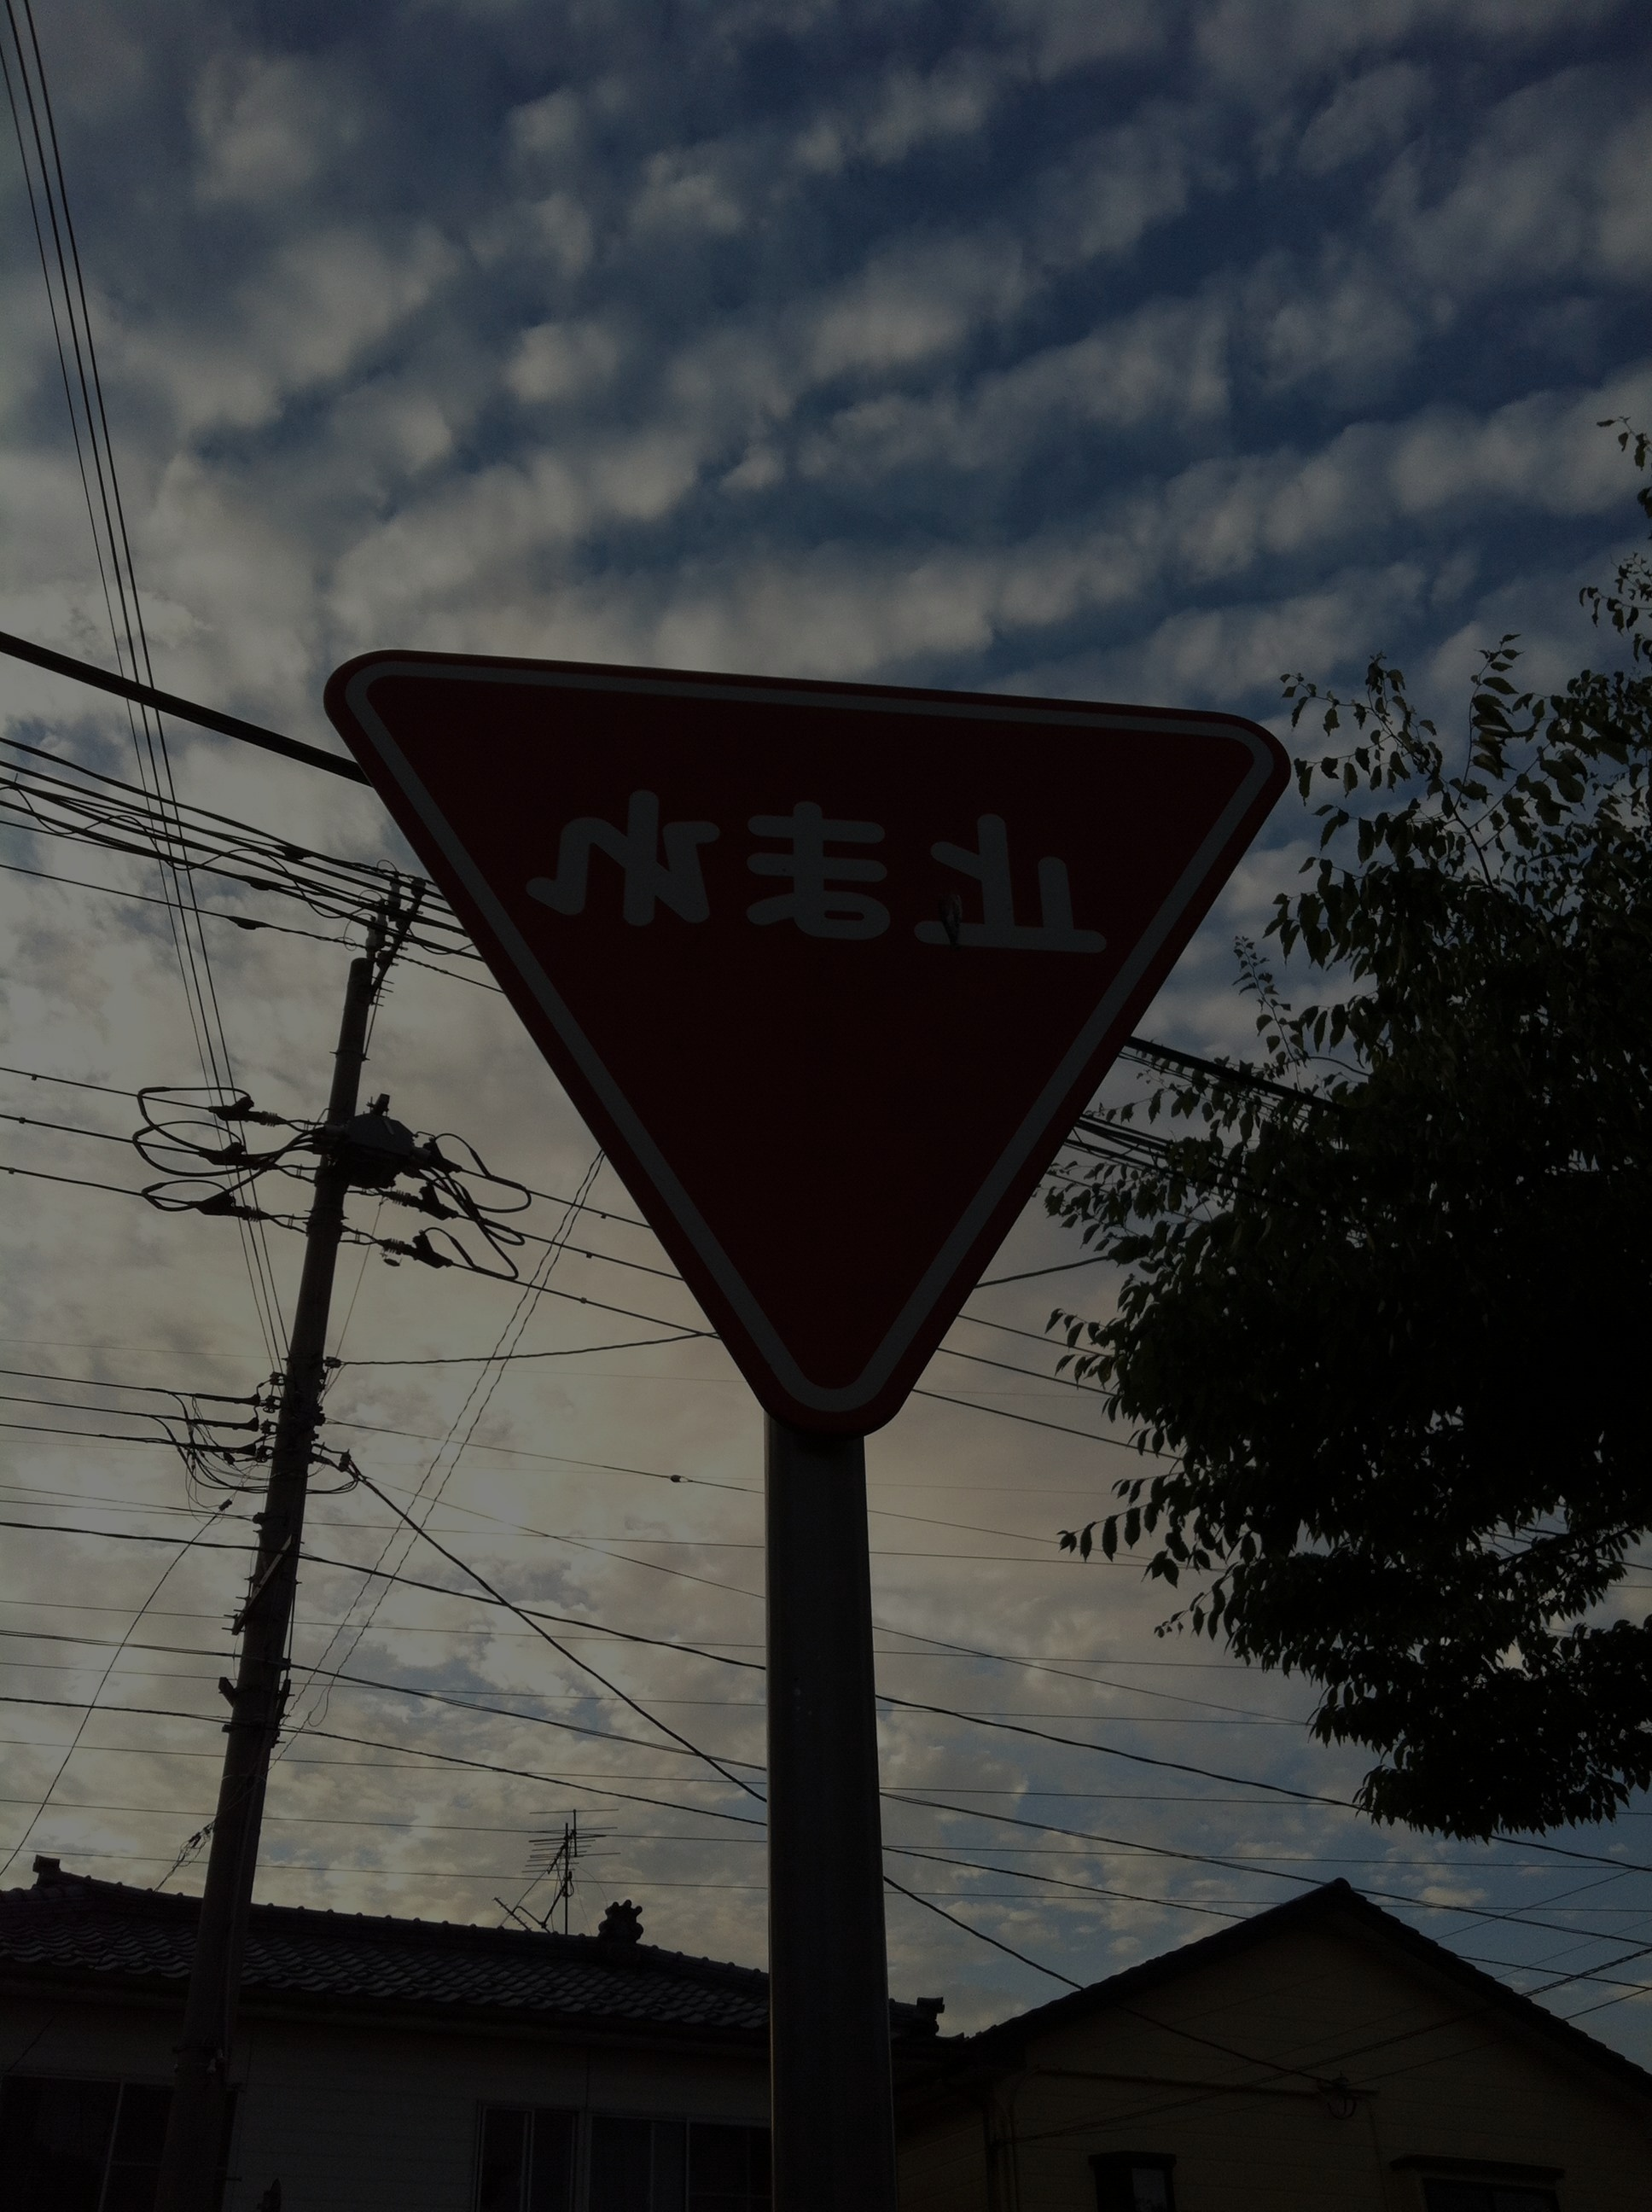Regulatory_sign_triangle: (324, 628, 1291, 1426)
